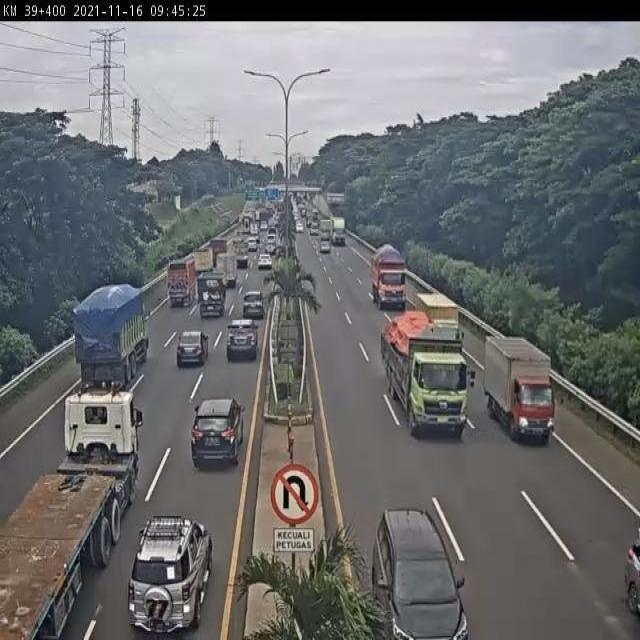Car: (370, 506, 468, 640), (125, 513, 214, 638), (190, 395, 245, 469), (226, 317, 259, 361), (176, 330, 209, 368), (242, 290, 265, 318), (257, 253, 273, 271), (247, 236, 258, 251), (266, 240, 276, 255), (320, 240, 331, 253), (259, 218, 269, 232), (310, 225, 320, 236), (266, 232, 277, 242), (296, 222, 304, 233)
Truck: (0, 387, 144, 640), (378, 309, 477, 442), (70, 280, 152, 387), (483, 335, 560, 444), (369, 241, 409, 313), (412, 290, 462, 340), (167, 255, 199, 307), (197, 272, 226, 317), (215, 252, 238, 287), (231, 233, 250, 271), (192, 245, 214, 274), (329, 216, 348, 246), (210, 237, 228, 267), (238, 209, 257, 234), (258, 209, 272, 231), (319, 218, 333, 240), (250, 222, 260, 236)
